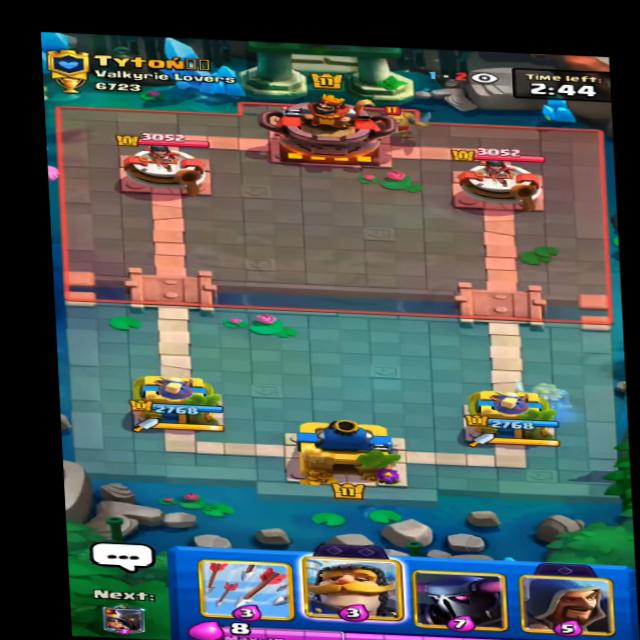Knight: (356, 103, 446, 140)
